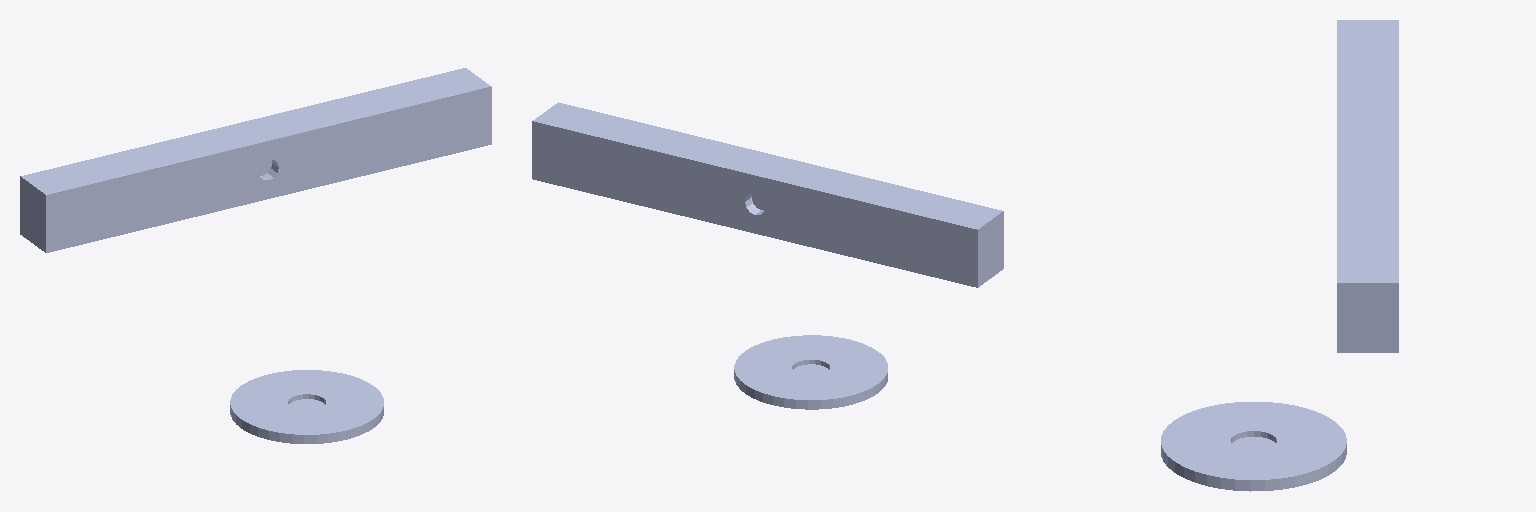
robot.urdf — my_robot:
<?xml version="1.0" encoding="utf-8"?>
<!-- This URDF was automatically created by SolidWorks to URDF Exporter! Originally created by Stephen Brawner (brawner@gmail.com) 
     Commit Version: 1.6.0-4-g7f85cfe  Build Version: 1.6.7995.38578
     For more information, please see http://wiki.ros.org/sw_urdf_exporter -->
<robot
  name="my_robot">
  <link
    name="base_link">
    <inertial>
      <origin
        xyz="-1.81197323910384E-18 -1.06778033332733E-17 0.00983870967741936"
        rpy="0 0 0" />
      <mass
        value="1.3695380474243" />
      <inertia
        ixx="0.00798224048922842"
        ixy="-8.86556739829567E-19"
        ixz="6.1729991419757E-19"
        iyy="0.00798224048922842"
        iyz="-1.31816359279126E-18"
        izz="0.0158732496978436" />
    </inertial>
    <visual>
      <origin
        xyz="0 0 0"
        rpy="0 0 0" />
      <geometry>
        <mesh
          filename="package://my_robot/meshes/base_link.STL" />
      </geometry>
      <material
        name="">
        <color
          rgba="0.792156862745098 0.819607843137255 0.933333333333333 1" />
      </material>
    </visual>
    <collision>
      <origin
        xyz="0 0 0"
        rpy="0 0 0" />
      <geometry>
        <mesh
          filename="package://my_robot/meshes/base_link.STL" />
      </geometry>
    </collision>
  </link>
  <link
    name="joint_1_link">
    <inertial>
      <origin
        xyz="-5.86783648976754E-17 -2.96425226629435E-19 0.318424334676381"
        rpy="0 0 0" />
      <mass
        value="2.74003858179813" />
      <inertia
        ixx="0.0777624850691794"
        ixy="-1.16823868514941E-18"
        ixz="1.53139540976335E-17"
        iyy="0.0748440805695645"
        iyz="2.37645930456412E-19"
        izz="0.00578039173555455" />
    </inertial>
    <visual>
      <origin
        xyz="0 0 0"
        rpy="0 0 0" />
      <geometry>
        <mesh
          filename="package://my_robot/meshes/joint_1_link.STL" />
      </geometry>
      <material
        name="">
        <color
          rgba="0.792156862745098 0.819607843137255 0.933333333333333 1" />
      </material>
    </visual>
    <collision>
      <origin
        xyz="0 0 0"
        rpy="0 0 0" />
      <geometry>
        <mesh
          filename="package://my_robot/meshes/joint_1_link.STL" />
      </geometry>
    </collision>
  </link>
  <joint
    name="joint_1_joint"
    type="revolute">
    <origin
      xyz="0 0 0"
      rpy="0 0 0" />
    <parent
      link="base_link" />
    <child
      link="joint_1_link" />
    <axis
      xyz="0 0 1" />
    <limit
      lower="-1.5708"
      upper="1.5708"
      effort="0"
      velocity="0" />
  </joint>
  <link
    name="joint_2_link">
    <inertial>
      <origin
        xyz="-0.0794258655611038 -1.11022302462516E-15 -1.45783835440668E-15"
        rpy="0 0 0" />
      <mass
        value="9.82047843595602" />
      <inertia
        ixx="0.0234845916044866"
        ixy="-9.92795510805739E-17"
        ixz="-1.1000284564657E-16"
        iyy="0.720423041466823"
        iyz="-3.52502942241728E-18"
        izz="0.725137070966438" />
    </inertial>
    <visual>
      <origin
        xyz="0 0 0"
        rpy="0 0 0" />
      <geometry>
        <mesh
          filename="package://my_robot/meshes/joint_2_link.STL" />
      </geometry>
      <material
        name="">
        <color
          rgba="0.792156862745098 0.819607843137255 0.933333333333333 1" />
      </material>
    </visual>
    <collision>
      <origin
        xyz="0 0 0"
        rpy="0 0 0" />
      <geometry>
        <mesh
          filename="package://my_robot/meshes/joint_2_link.STL" />
      </geometry>
    </collision>
  </link>
  <joint
    name="joint_2_joint"
    type="revolute">
    <origin
      xyz="0 0 0.51"
      rpy="1.5708 0 0" />
    <parent
      link="joint_1_link" />
    <child
      link="joint_2_link" />
    <axis
      xyz="0 0 1" />
    <limit
      lower="-1.5708"
      upper="1.5708"
      effort="0"
      velocity="0" />
  </joint>
  <link
    name="joint_3_link">
    <inertial>
      <origin
        xyz="-0.00155144612945679 5.50011522503332E-17 0.200012035649747"
        rpy="0 0 0" />
      <mass
        value="2.6" />
      <inertia
        ixx="0.0355820833333334"
        ixy="5.06484326600204E-19"
        ixz="-7.81385951313209E-18"
        iyy="0.0368333333333334"
        iyz="-9.06836960847321E-18"
        izz="0.00308208333333334" />
    </inertial>
    <visual>
      <origin
        xyz="0 0 0"
        rpy="0 0 0" />
      <geometry>
        <mesh
          filename="package://my_robot/meshes/joint_3_link.STL" />
      </geometry>
      <material
        name="">
        <color
          rgba="0.792156862745098 0.819607843137255 0.933333333333333 1" />
      </material>
    </visual>
    <collision>
      <origin
        xyz="0 0 0"
        rpy="0 0 0" />
      <geometry>
        <mesh
          filename="package://my_robot/meshes/joint_3_link.STL" />
      </geometry>
    </collision>
  </link>
  <joint
    name="joint_3_joint"
    type="prismatic">
    <origin
      xyz="0.099988 0.0015514 0"
      rpy="1.5708 0 1.5708" />
    <parent
      link="joint_2_link" />
    <child
      link="joint_3_link" />
    <axis
      xyz="0 0 1" />
    <limit
      lower="0"
      upper="0.4"
      effort="0"
      velocity="0" />
  </joint>
</robot>

--- Facts derived from the render (not from the file) ---
Views: 3 orthographic renders of the robot side by side, from view 1: azimuth 30°, elevation 25°; view 2: azimuth 150°, elevation 25°; view 3: azimuth 270°, elevation 25°.
Robot: my_robot — 4 links, 3 joints (2 revolute, 1 prismatic); root link base_link; default pose: all joints at 0.
Links seen in each view (by area): view 1: joint_2_link, base_link; view 2: joint_2_link, base_link; view 3: joint_2_link, base_link, joint_3_link.
Boxes of the visible links, x1,y1,x2,y2 form: joint_2_link: (20,68,491,252); base_link: (230,370,383,443); joint_2_link: (532,102,1003,287); base_link: (734,335,887,409); joint_2_link: (1337,20,1398,352); base_link: (1161,402,1346,491); joint_3_link: (1348,290,1387,345).
Size in the robot's own frame: 1 by 0.384 by 0.5292 metres.
3 mesh visuals loaded from 4 distinct referenced files (3 binary STL); not drawn: 1 (reference not matched to a file when rendering).
